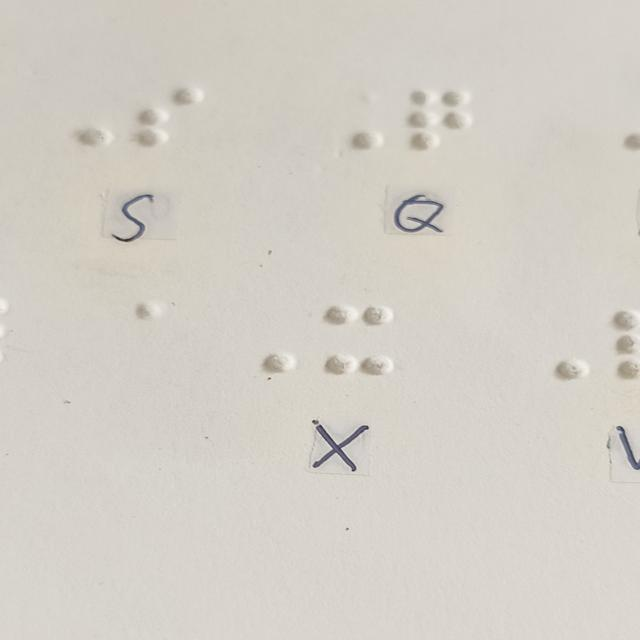Q: (413, 86, 471, 153)
S: (140, 87, 203, 145)
X: (325, 304, 393, 375)
capital: (230, 305, 298, 376), (324, 89, 382, 155), (53, 90, 115, 147)
